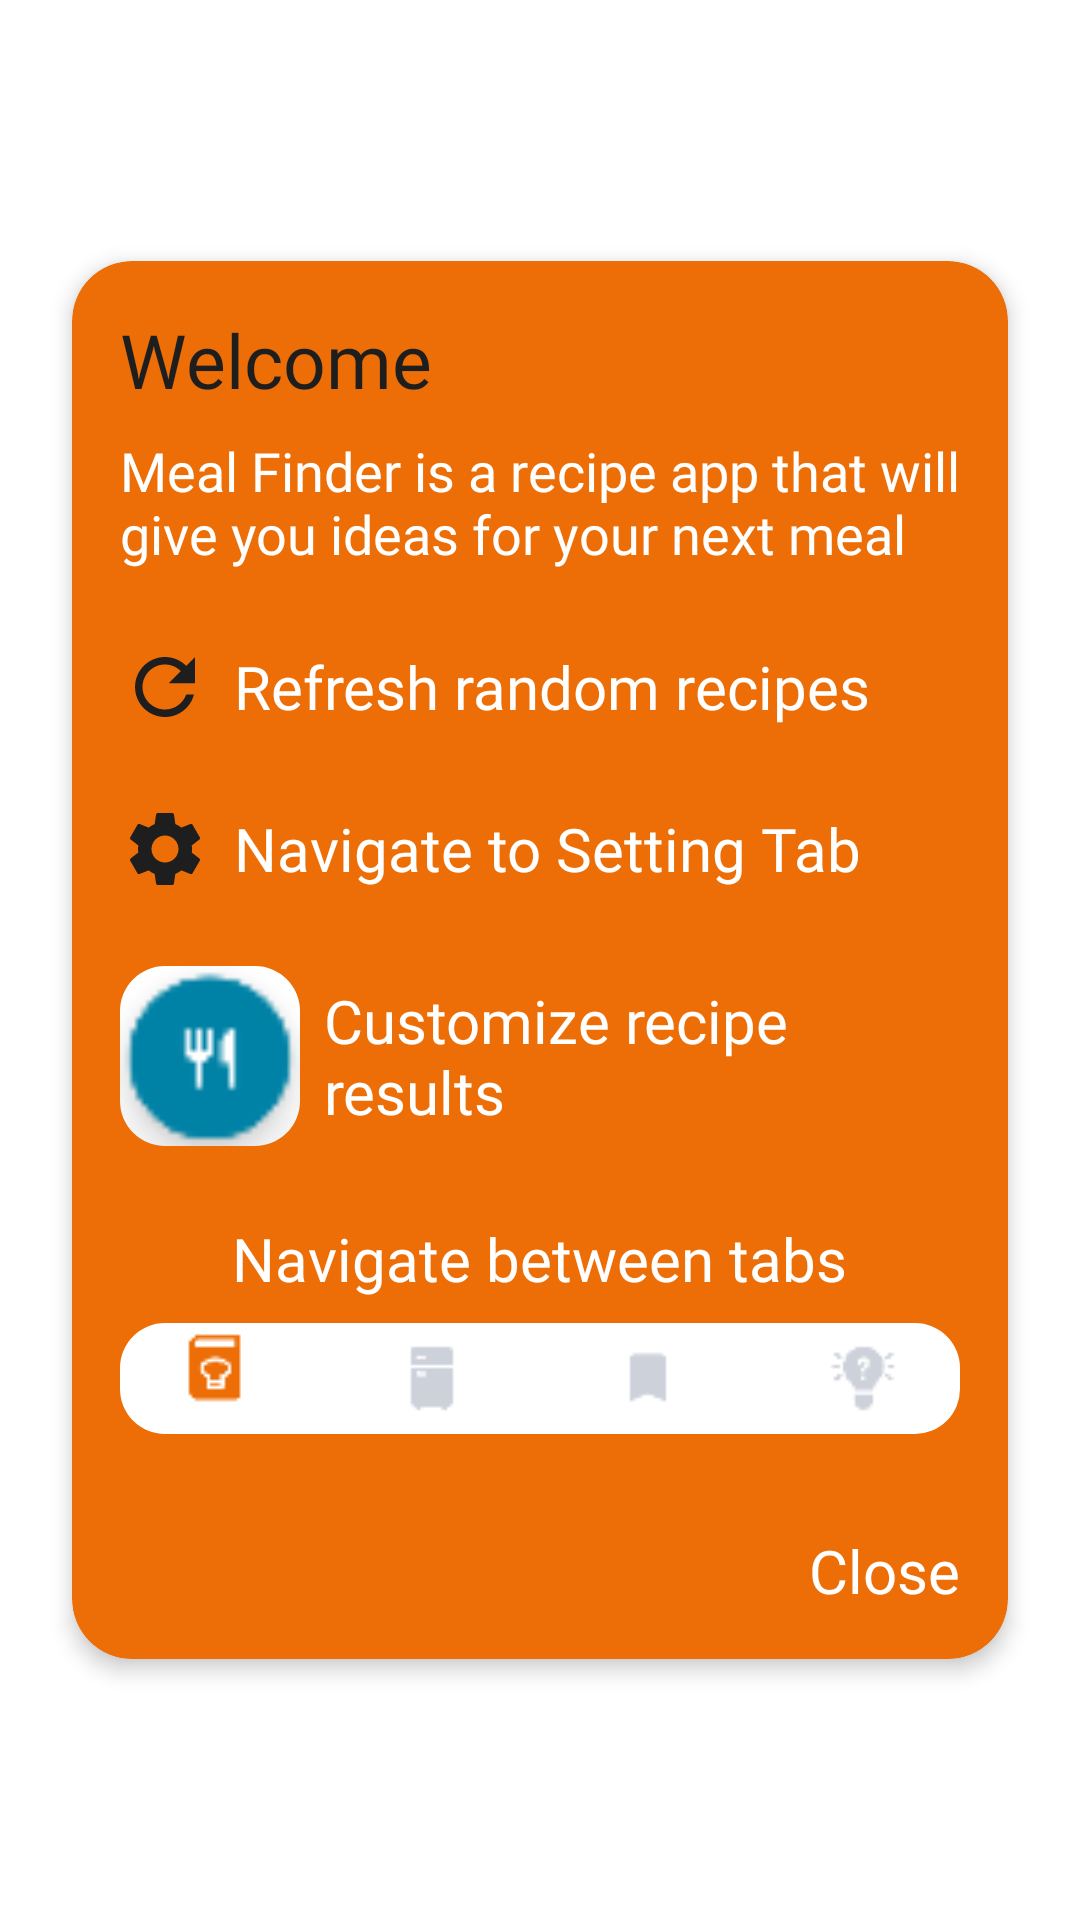

Screen size 1080x1920. Icon name, then its center in pixels as point (x, y):
recipes filter fab: point (210, 1056)
settings: point (165, 849)
